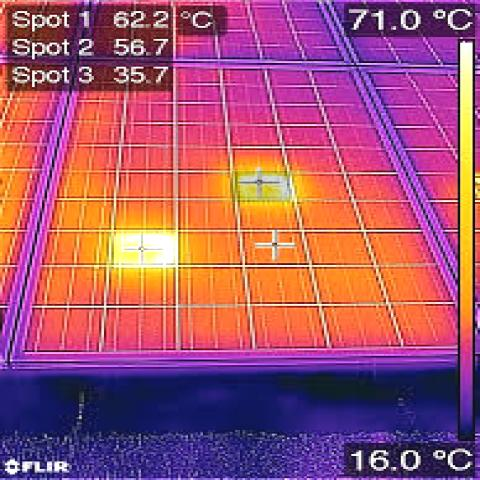fault: (114, 232, 178, 268), (232, 171, 290, 202)
